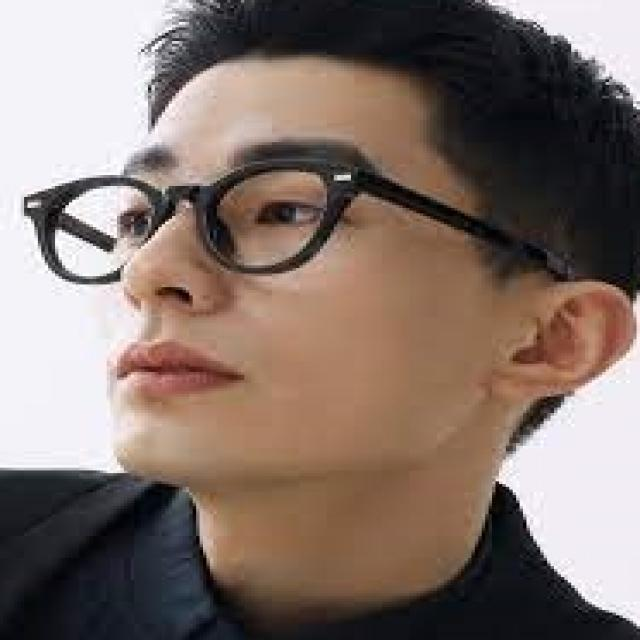Glasses: (7, 145, 602, 304)
